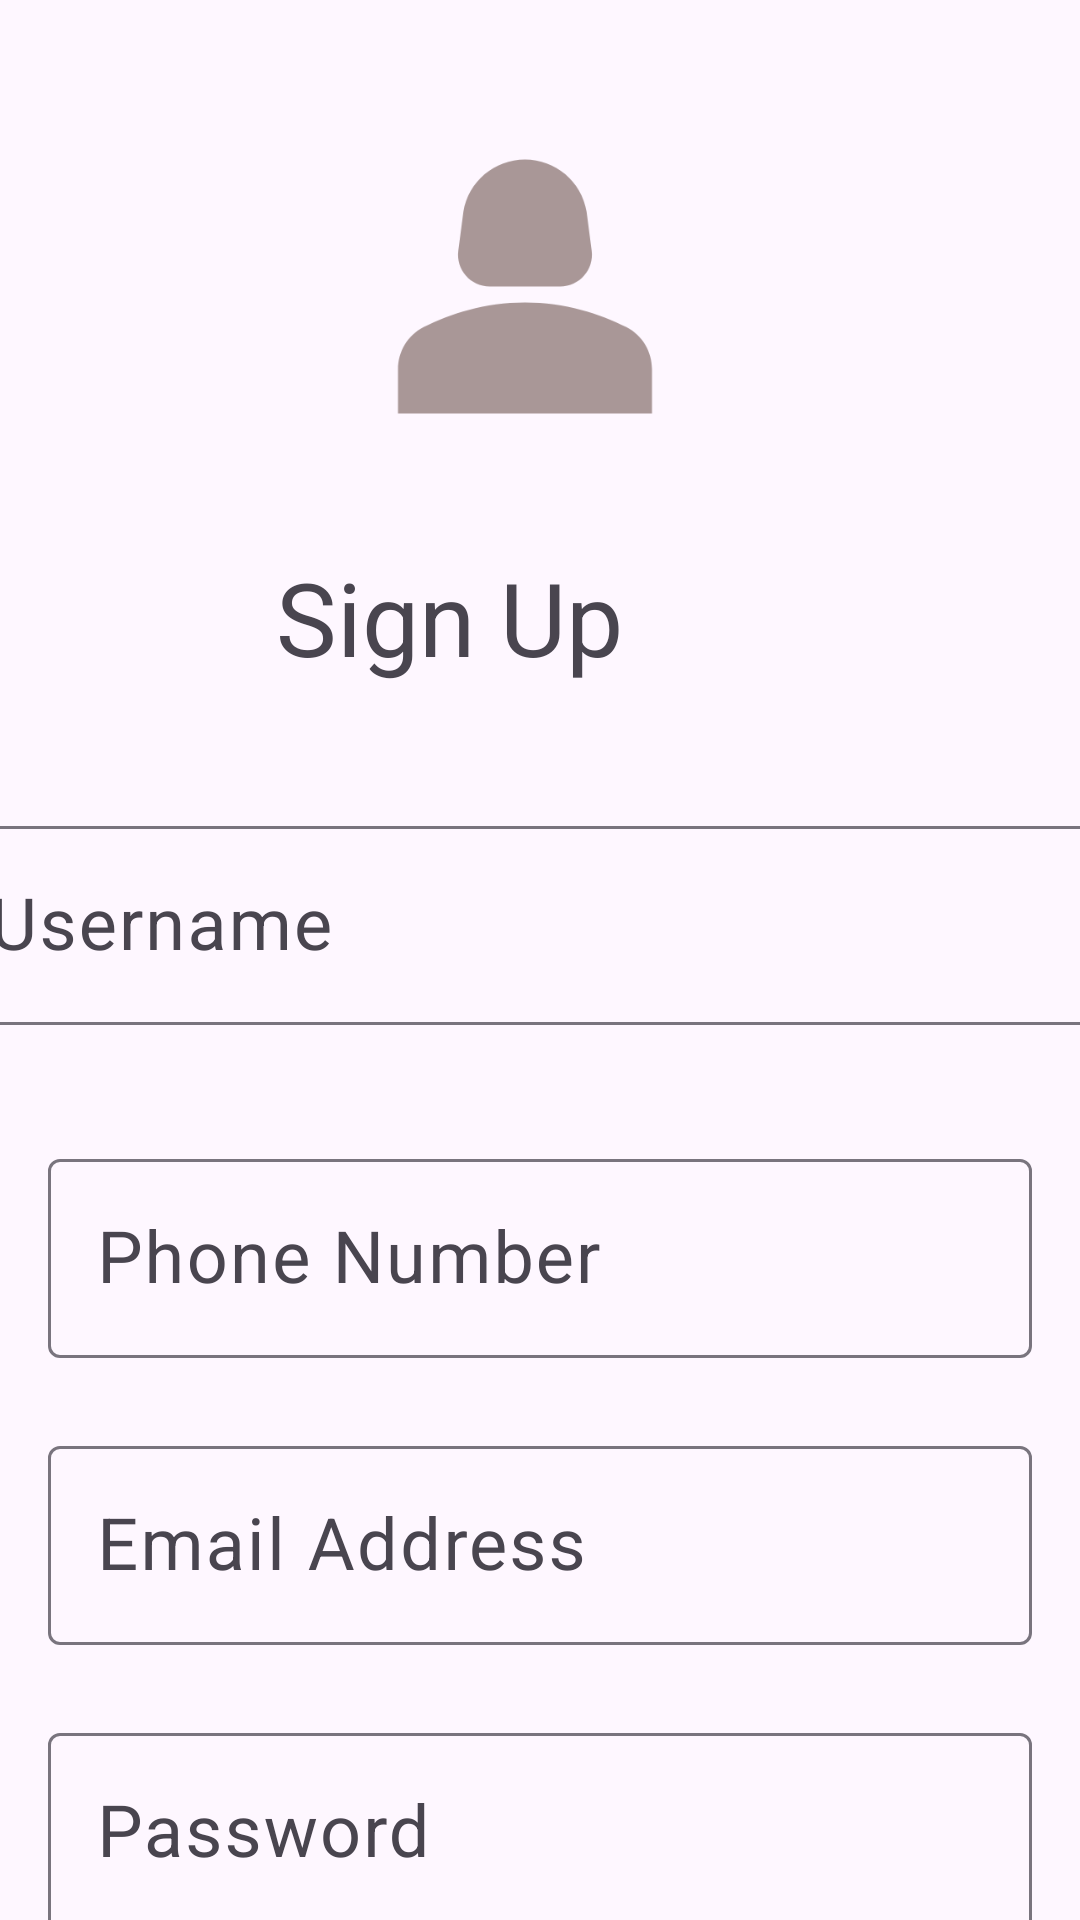

Where icons sit on this 1080px x 1920px app screen, as [x1,y1,x2,y2]:
person: [398,159,652,414]
